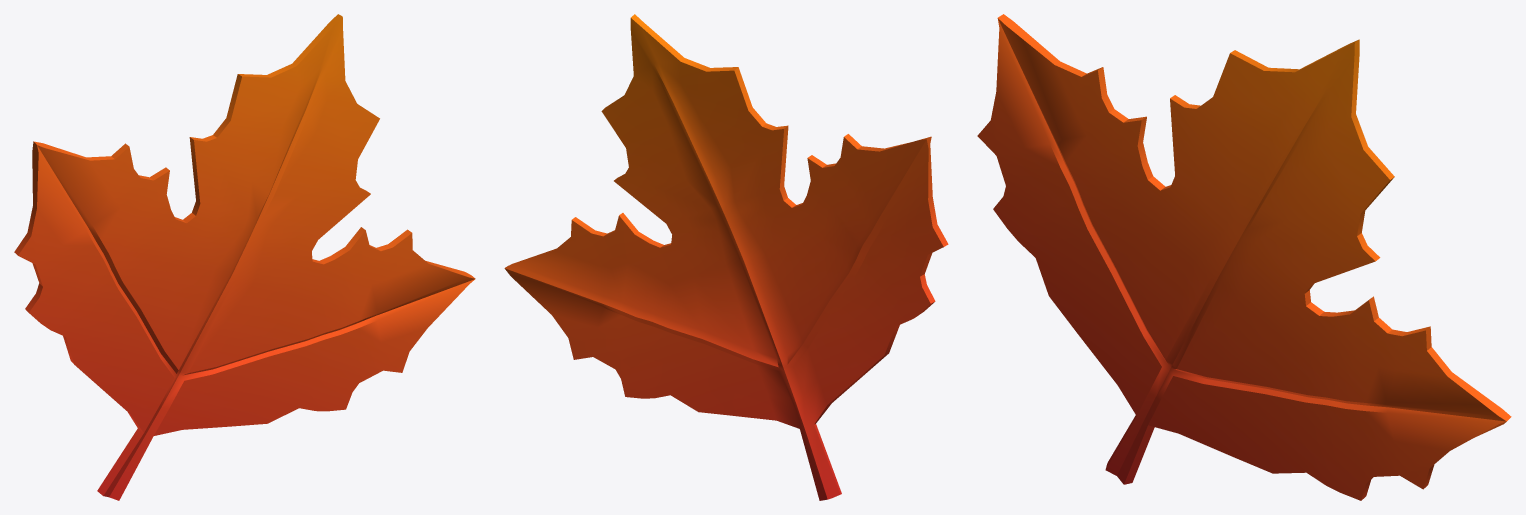
The model's file is maple_leaf.glb.
3 views of the same model, side by side, from view 1: azimuth 30°, elevation 25°; view 2: azimuth 150°, elevation 25°; view 3: azimuth 330°, elevation 25° (orthographic). The views are drawn at different scales.
Visible parts, largest first — view 1: Plane.180; view 2: Plane.180; view 3: Plane.180.
Part boxes in pixels (x1,y1,x2,y2): Plane.180: (14,14,475,500); Plane.180: (504,14,948,500); Plane.180: (977,14,1511,500).
Bounding box in the file's own units: 2.39 × 2.21 × 0.2283.
Materials: 1 (1 with a texture image).
